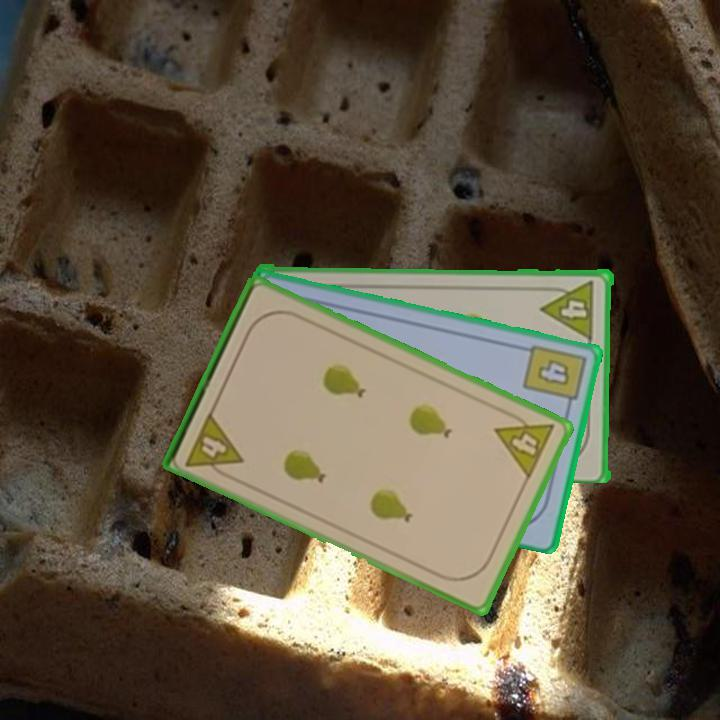4b: (519, 340, 589, 414)
4p: (491, 405, 558, 482), (182, 408, 246, 483), (540, 276, 598, 341)
